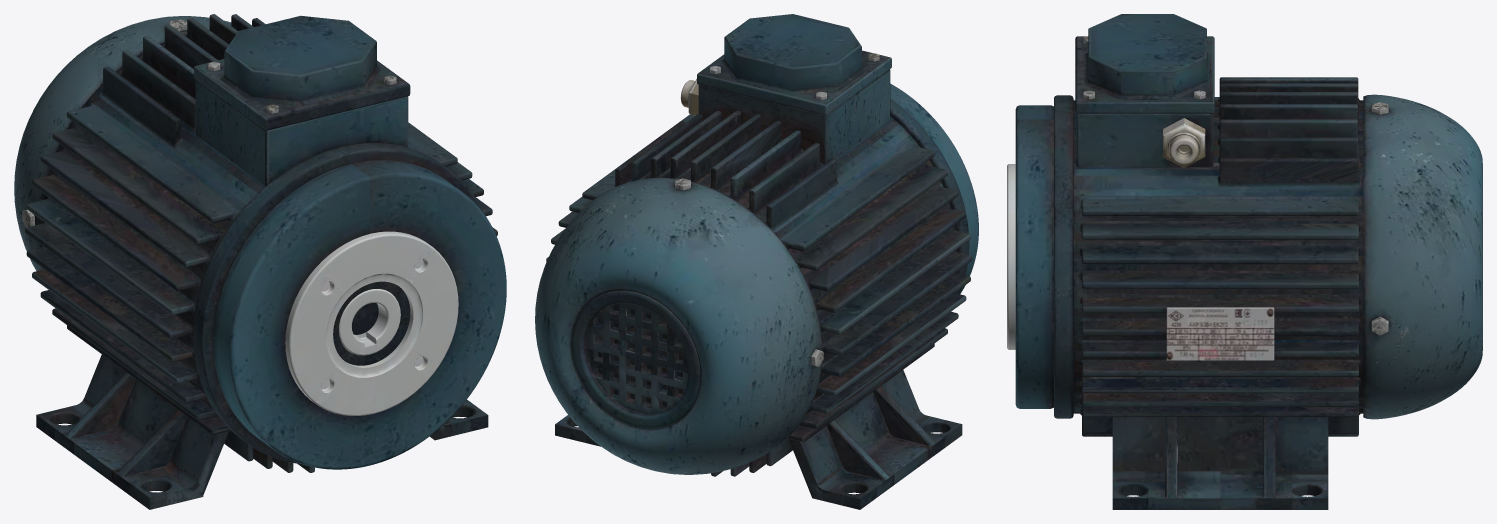
Rendered from electric_motor.glb.
The picture shows the model from 3 angles, left to right: view 1: azimuth 30°, elevation 25°; view 2: azimuth 150°, elevation 25°; view 3: azimuth 270°, elevation 25°; orthographic projection. The views are drawn at different scales.
Visible parts, largest first — view 1: icon__0; view 2: icon__0; view 3: icon__0.
Part boxes in pixels (bbox=[...]): icon__0: bbox=[14, 14, 506, 509]; icon__0: bbox=[535, 14, 978, 509]; icon__0: bbox=[1007, 14, 1482, 509].
Size of the model in its own units: 0.1897 by 0.2193 by 0.2428.
1 material, 1 textured.
